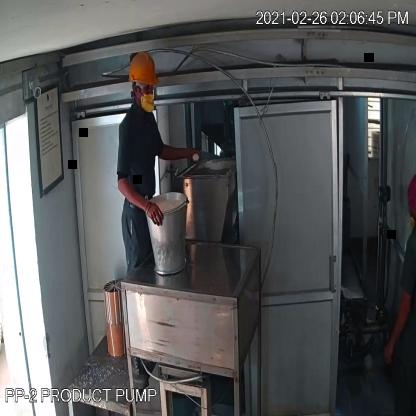helmet: (125, 51, 164, 90)
